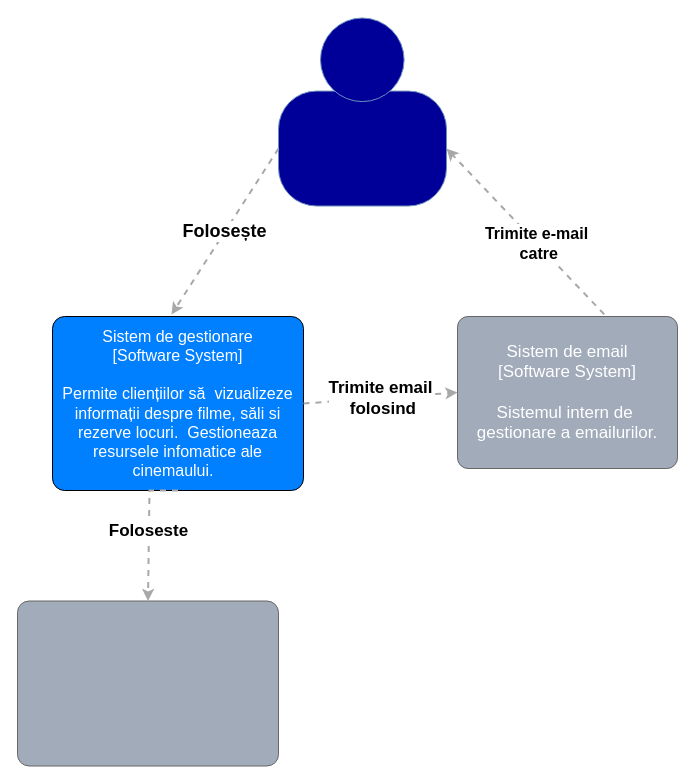
Some shapes in this 695 by 783 pixel diagram are drawn without their labels. Each missing label, with the box of its shape:
Client [Person] Un client al cinema-ului, cu un cont pe aplicatie: (278, 90, 446, 206)
Sistemul bancar [Software System] Sistem care se ocupa cu gestionarea platilor.: (16, 600, 278, 766)
